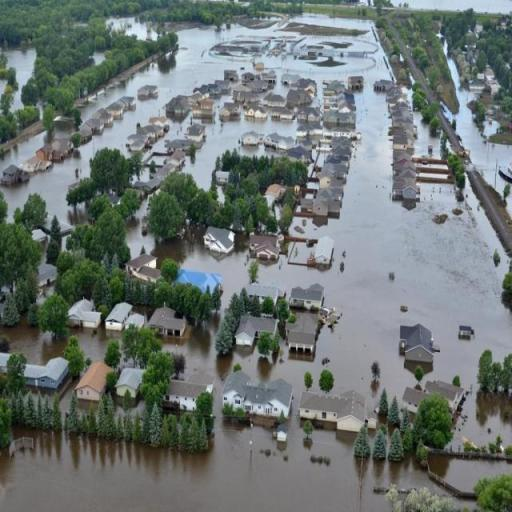flood: (165, 16, 512, 442), (4, 25, 294, 216), (1, 417, 432, 512), (448, 58, 512, 192), (184, 115, 299, 187), (156, 234, 250, 308), (0, 316, 66, 364), (429, 455, 512, 490), (5, 47, 36, 110), (70, 325, 121, 360), (392, 0, 512, 14), (106, 17, 158, 40), (240, 134, 282, 156), (111, 395, 145, 416), (81, 51, 105, 70), (60, 390, 76, 416), (161, 401, 185, 418), (11, 425, 41, 438), (449, 429, 463, 452), (78, 399, 99, 414), (0, 80, 6, 96)
house: (225, 379, 294, 427), (300, 390, 367, 430), (402, 378, 467, 416), (20, 355, 70, 392), (73, 360, 112, 406), (161, 379, 214, 411), (234, 315, 281, 350), (398, 322, 434, 367), (286, 310, 316, 360), (105, 300, 137, 344), (148, 306, 186, 342), (63, 299, 101, 335), (116, 366, 146, 404), (128, 251, 162, 283), (248, 230, 280, 262), (201, 226, 235, 256), (300, 195, 344, 218), (0, 160, 27, 190), (47, 136, 74, 165), (290, 288, 322, 309), (243, 71, 275, 92), (246, 284, 280, 301), (166, 94, 188, 120), (316, 236, 334, 266), (394, 179, 420, 199), (124, 132, 147, 154), (109, 98, 131, 121), (38, 264, 58, 287), (325, 110, 357, 124), (288, 88, 312, 106), (321, 90, 338, 112), (394, 135, 416, 151), (297, 107, 320, 122), (92, 108, 112, 125), (187, 124, 205, 142), (193, 97, 215, 111), (220, 103, 240, 118), (341, 92, 356, 112), (390, 96, 410, 111), (263, 94, 286, 107), (242, 132, 260, 148), (302, 78, 318, 96), (168, 150, 186, 166), (138, 85, 158, 99), (140, 124, 158, 139), (395, 116, 414, 130), (273, 108, 295, 120), (330, 126, 352, 138), (264, 132, 281, 147), (245, 107, 266, 119), (395, 152, 413, 166), (194, 84, 212, 98), (23, 156, 37, 173), (281, 74, 299, 87), (214, 170, 230, 184), (348, 76, 364, 90), (138, 179, 158, 190), (374, 80, 392, 92), (80, 121, 94, 136), (459, 324, 473, 338), (215, 80, 232, 91), (224, 69, 239, 81), (488, 80, 500, 94), (296, 126, 306, 136)
